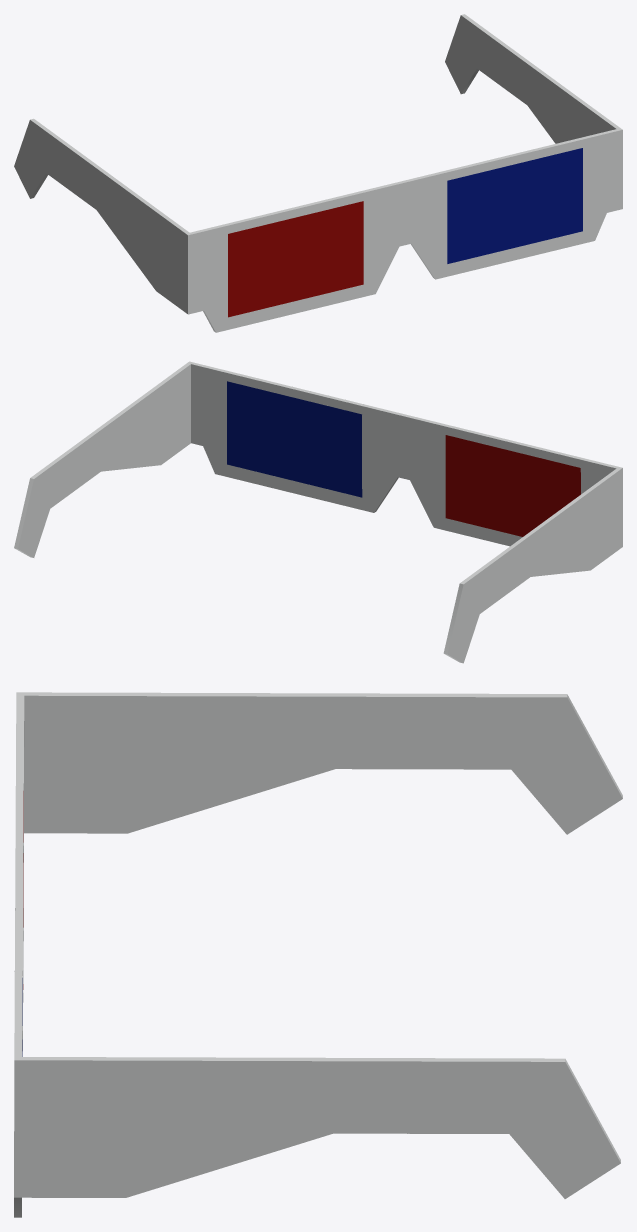
File: 3dGlass.obj
3 views of the same model, one above another, from view 1: azimuth 30°, elevation 25°; view 2: azimuth 150°, elevation 25°; view 3: azimuth 270°, elevation 25° (orthographic). The views are drawn at different scales.
Parts seen in each view (by area): view 1: Redhanlder1, Bluehandler1, Redlen1, Bluelen1, Middle1; view 2: Bluehandler1, Redhanlder1, Bluelen1, Redlen1, Middle1; view 3: Bluehandler1, Redhanlder1.
Part boxes in pixels (bbox=[...]): Redhanlder1: bbox=[14, 118, 375, 332]; Bluehandler1: bbox=[433, 14, 622, 279]; Redlen1: bbox=[228, 201, 363, 317]; Bluelen1: bbox=[447, 148, 582, 263]; Middle1: bbox=[373, 173, 435, 293]; Bluehandler1: bbox=[14, 361, 375, 557]; Redhanlder1: bbox=[433, 422, 622, 663]; Bluelen1: bbox=[227, 381, 362, 497]; Redlen1: bbox=[445, 435, 580, 536]; Middle1: bbox=[374, 407, 435, 526]; Bluehandler1: bbox=[14, 901, 620, 1217]; Redhanlder1: bbox=[15, 692, 622, 1002].
Size of the model in its own units: 5.81 by 1.33 by 4.06.
